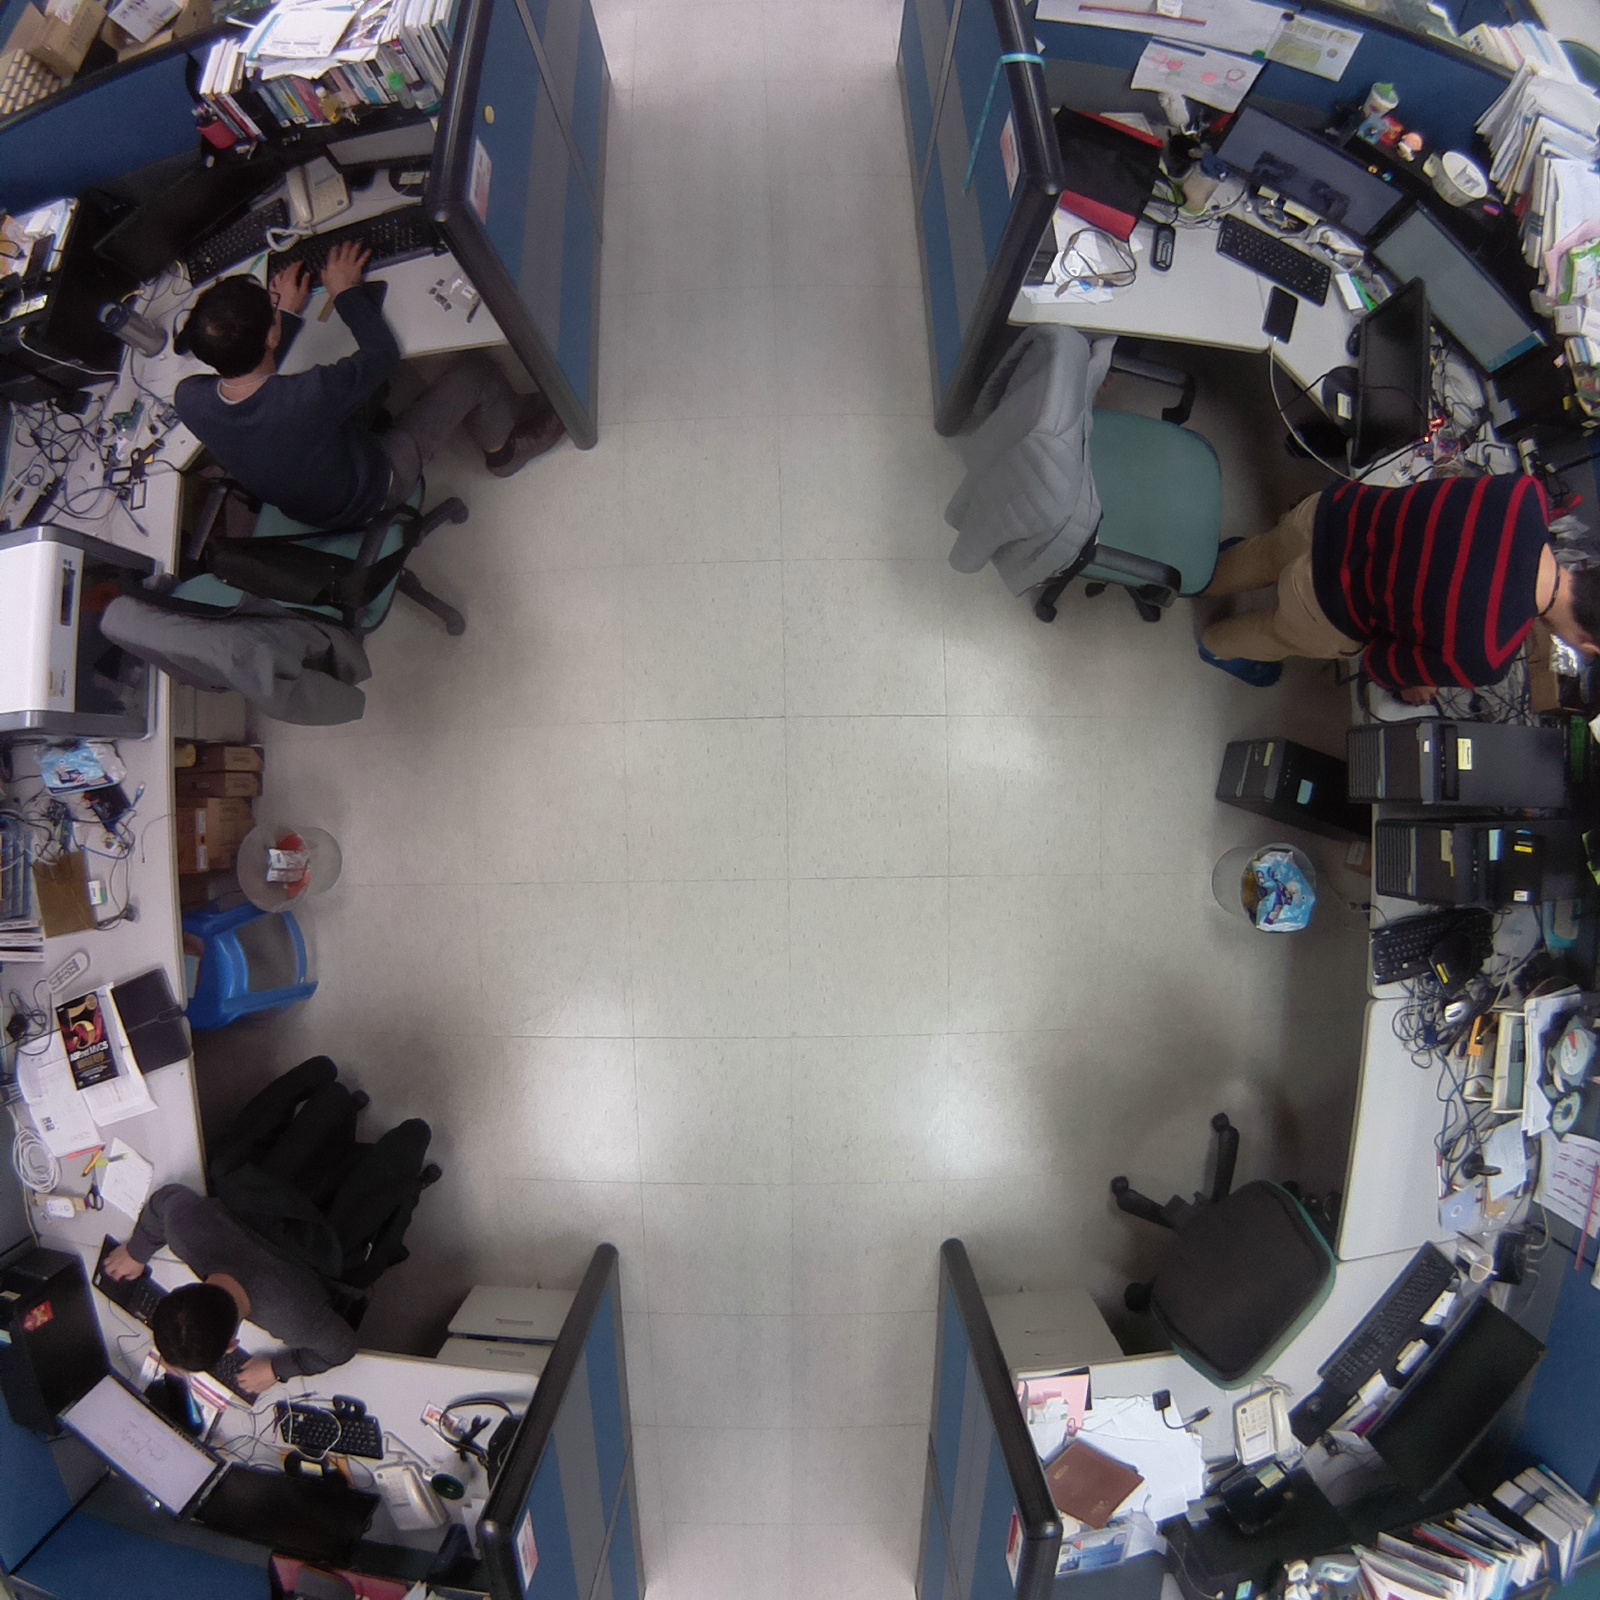chair: (944, 311, 1229, 642), (1089, 1097, 1355, 1398)
sitting: (152, 227, 590, 551), (89, 1179, 375, 1407)
standing: (1184, 462, 1600, 699)
